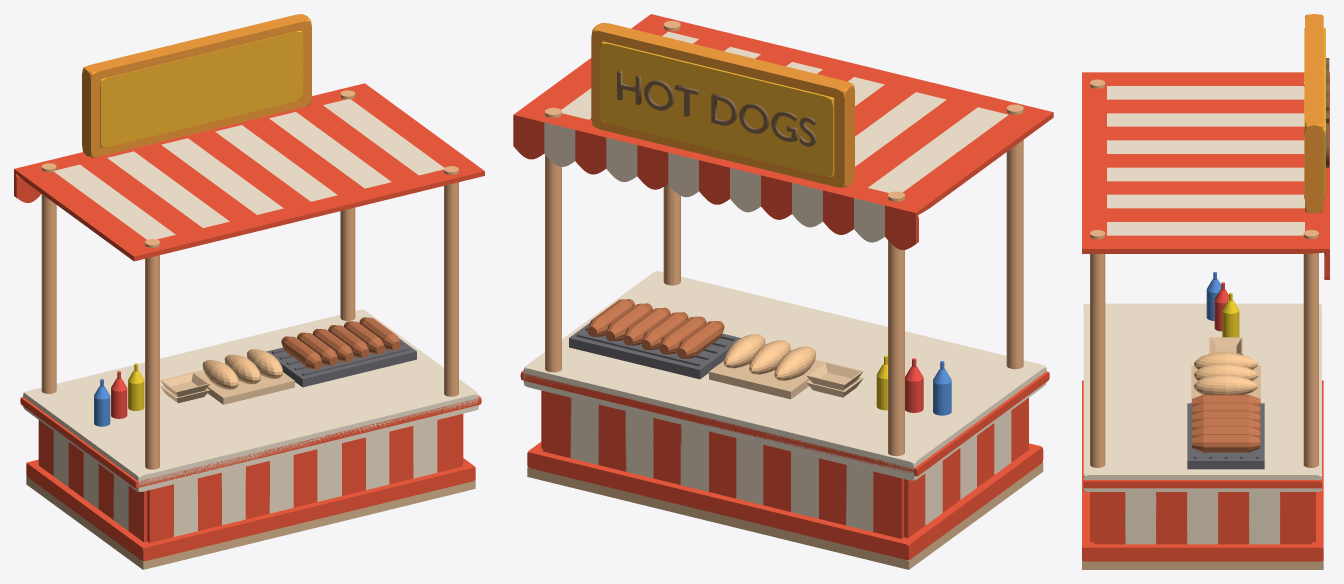
The model's file is 33-hot-dog-stand-hd14.glb.
3 views of the same model, side by side, from view 1: azimuth 30°, elevation 25°; view 2: azimuth 150°, elevation 25°; view 3: azimuth 270°, elevation 25° (orthographic). The views are drawn at different scales.
Visible parts, largest first — view 1: Canopy, Countertop, SignPlate, BaseTrim, SignFrame, BasePlate, CounterRim, Post_2, Post_3, Post_0, GrillTray, Post_1 (+31 smaller); view 2: Canopy, Countertop, SignPlate, BaseTrim, SignFrame, BasePlate, CounterRim, Post_2, Post_1, Post_0, SignText, GrillTray (+32 smaller); view 3: Canopy, Countertop, BaseTrim, SignFrame, Post_1, Post_3, BasePlate, CounterRim, GrillTray, Skirt_right_0, Skirt_right_6, Skirt_right_4 (+18 smaller).
Part boxes in pixels (box(x1,y1,x2,y2)): Canopy: box(14, 83, 484, 261); Countertop: box(23, 309, 478, 492); SignPlate: box(100, 30, 303, 147); BaseTrim: box(26, 458, 475, 561); SignFrame: box(82, 14, 311, 157); BasePlate: box(26, 476, 475, 569); CounterRim: box(20, 396, 481, 488); Post_2: box(145, 239, 159, 469); Post_3: box(444, 166, 458, 396); Post_0: box(41, 163, 56, 393); GrillTray: box(266, 338, 416, 387); Post_1: box(340, 90, 355, 320); Canopy: box(513, 14, 1053, 249); Countertop: box(523, 271, 1046, 480); SignPlate: box(600, 41, 834, 176); BaseTrim: box(527, 442, 1043, 559); SignFrame: box(591, 22, 854, 187); BasePlate: box(527, 462, 1043, 569); CounterRim: box(520, 370, 1049, 476); Post_2: box(1006, 104, 1023, 369); Post_1: box(545, 107, 561, 372); Post_0: box(888, 191, 904, 455); SignText: box(617, 71, 816, 146); GrillTray: box(569, 323, 740, 379); Canopy: box(1082, 72, 1329, 279); Countertop: box(1083, 303, 1321, 491); BaseTrim: box(1082, 380, 1323, 561); SignFrame: box(1305, 14, 1323, 213); Post_1: box(1303, 230, 1318, 467); Post_3: box(1090, 230, 1105, 467); BasePlate: box(1082, 561, 1323, 569); CounterRim: box(1083, 480, 1321, 488); GrillTray: box(1187, 403, 1264, 469); Skirt_right_0: box(1280, 492, 1311, 544); Skirt_right_6: box(1094, 492, 1125, 544); Skirt_right_4: box(1156, 492, 1187, 544).
Size of the model in its own units: 2.7 by 2.98 by 1.6.
